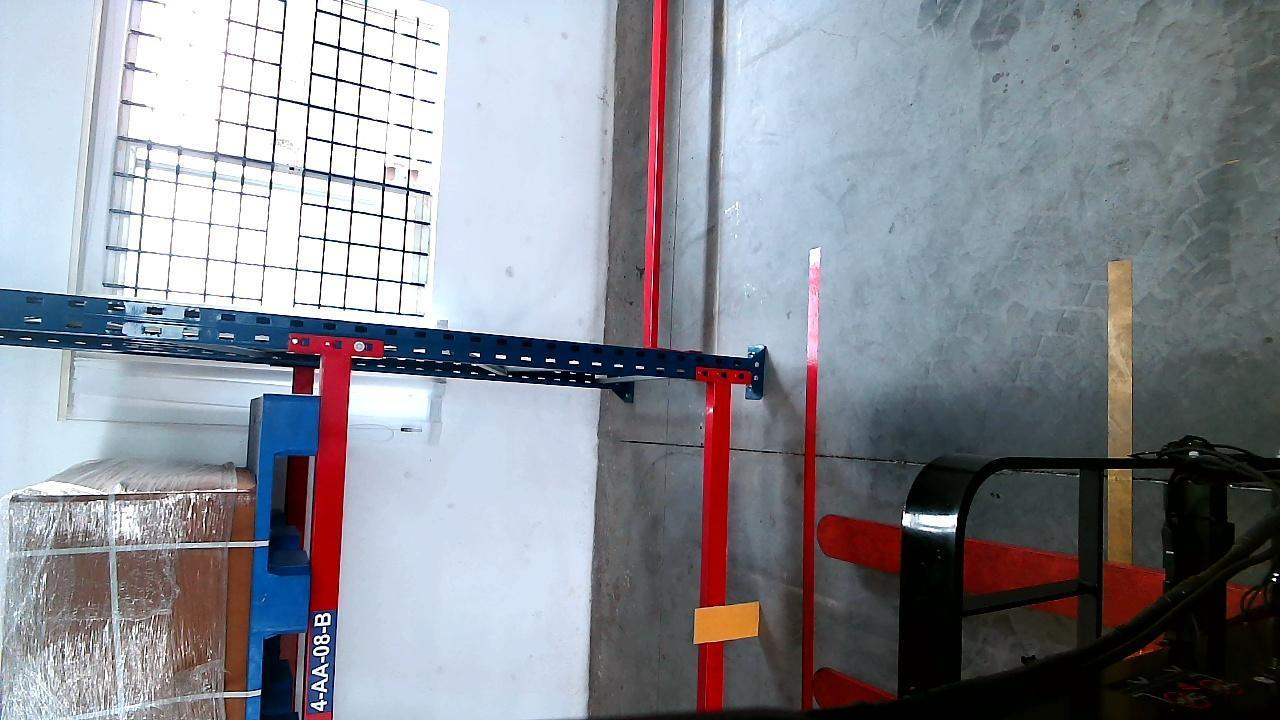h_rack: (308, 351, 349, 720), (701, 374, 732, 713)
orange_strip: (695, 602, 761, 643)
red_line: (796, 248, 821, 711)
small_pallet: (250, 390, 321, 720)
yellow_line: (1108, 250, 1134, 605)
